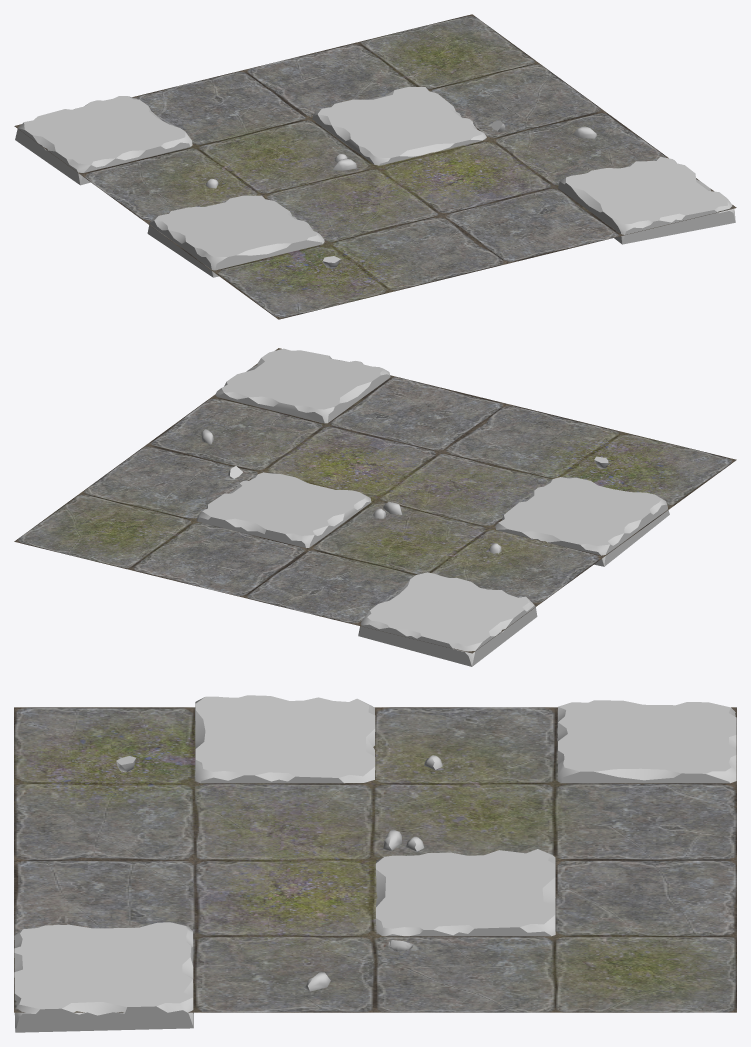
The model's file is Floor_Lvl2_1.fbx.
3 renders of one model, top to bottom at view 1: azimuth 30°, elevation 25°; view 2: azimuth 150°, elevation 25°; view 3: azimuth 270°, elevation 25°, orthographic. The views are drawn at different scales.
Parts seen in each view (by area): view 1: StoneFloor.003, StoneFloor_Details.002; view 2: StoneFloor.003, StoneFloor_Details.002; view 3: StoneFloor.003, StoneFloor_Details.002.
Boxes of the visible parts, box(x1,y1,x2,y2) form: StoneFloor.003: box(14, 14, 736, 319); StoneFloor_Details.002: box(15, 87, 735, 277); StoneFloor.003: box(14, 348, 736, 653); StoneFloor_Details.002: box(196, 348, 669, 666); StoneFloor.003: box(14, 707, 736, 1012); StoneFloor_Details.002: box(14, 695, 736, 1032).
Bounding box in the file's own units: 382 × 20.6 × 382.
